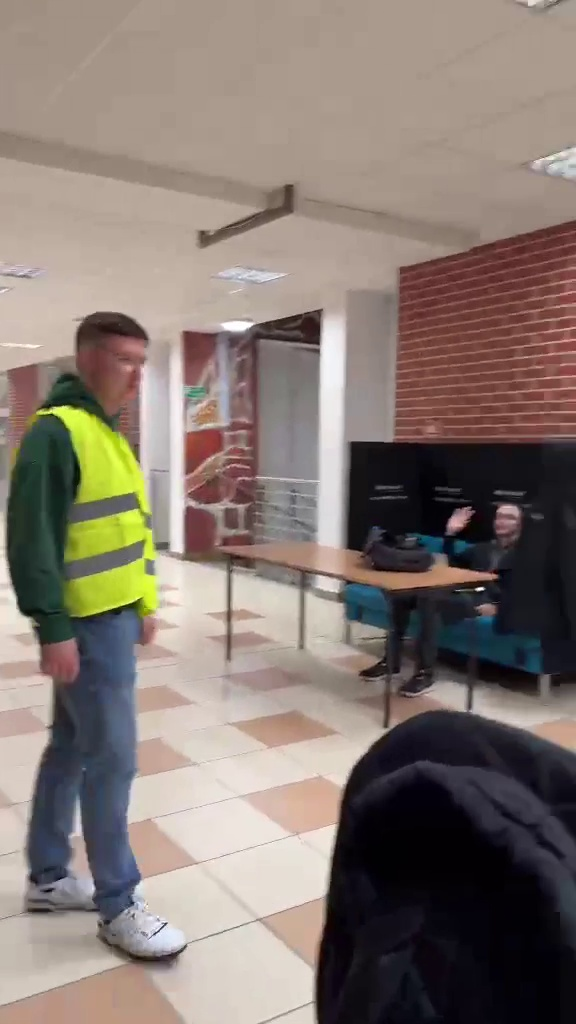no vest: (387, 497, 538, 667)
vest: (10, 315, 200, 956)
